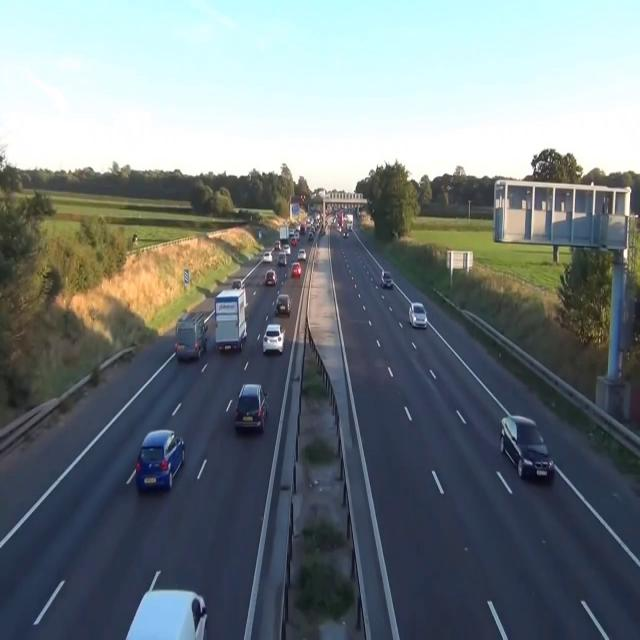belum terisi: (495, 393, 563, 502), (116, 571, 217, 640), (130, 421, 190, 504), (210, 280, 250, 357), (232, 375, 274, 438), (172, 308, 210, 371), (406, 292, 430, 339), (261, 319, 287, 360)
